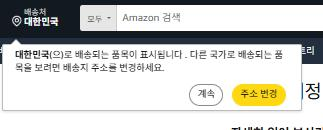button: (233, 83, 283, 105), (191, 85, 217, 105)
checkbox: (81, 5, 116, 31)
input_field: (117, 5, 323, 30)
popup: (3, 43, 302, 110)
